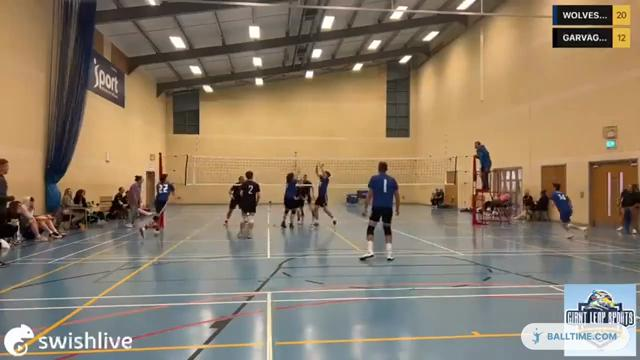alzata: (310, 159, 338, 230)
